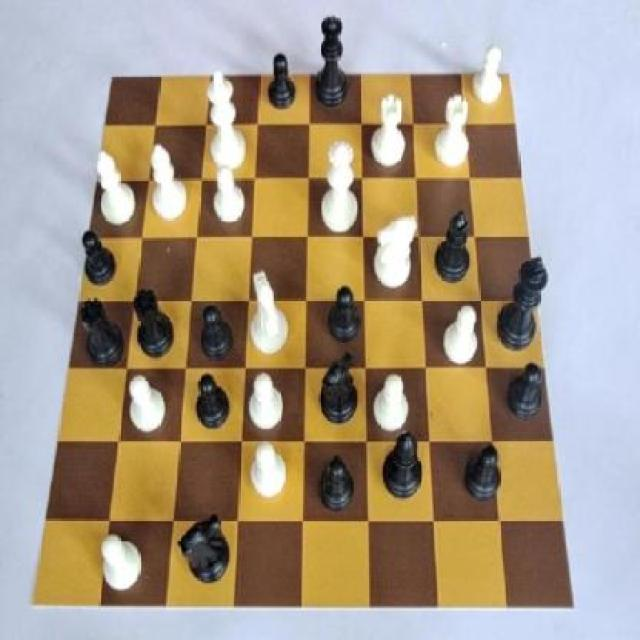bishop: (430, 203, 484, 287), (377, 423, 428, 509)
black-bishop: (492, 237, 552, 356)
black-king: (172, 498, 237, 590), (316, 346, 366, 432)
black-knight: (188, 366, 240, 443), (460, 432, 508, 508), (502, 349, 548, 428), (320, 274, 371, 344), (72, 226, 125, 292), (317, 448, 358, 524), (196, 292, 238, 365), (260, 46, 302, 116)
black-pawn: (308, 9, 359, 110)
black-queen: (128, 277, 185, 362), (74, 288, 131, 370)
black-rook: (143, 137, 193, 228), (88, 146, 142, 229)
white-bishop: (202, 65, 250, 172)
white-king: (244, 260, 298, 362), (369, 205, 421, 300)
white-knight: (91, 526, 150, 602), (121, 369, 177, 438), (440, 294, 488, 371), (242, 365, 290, 439), (466, 38, 513, 112), (369, 362, 413, 439), (244, 426, 288, 502), (206, 162, 251, 229)
white-pawn: (319, 131, 366, 240)
white-queen: (430, 83, 478, 177), (368, 85, 412, 177)
